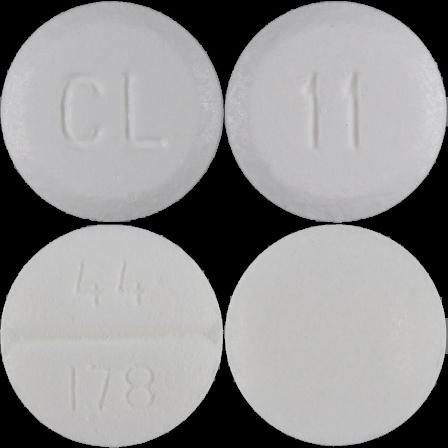21695-926: (0, 0, 224, 224)
